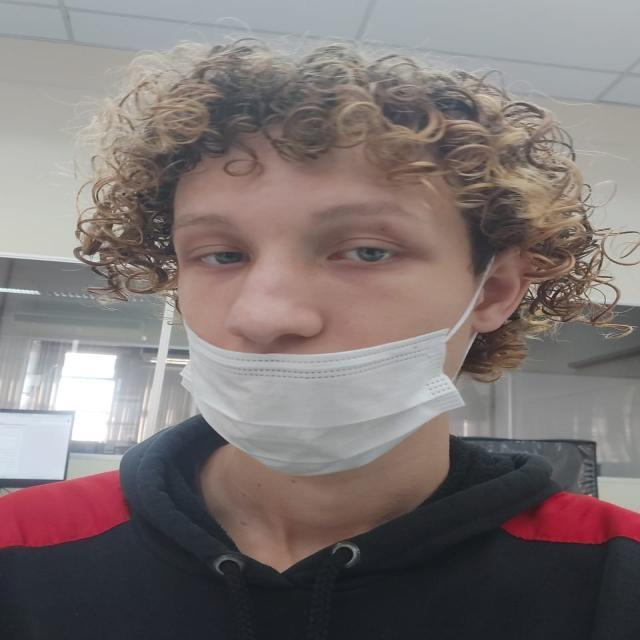hairnet: (164, 180, 487, 474)
